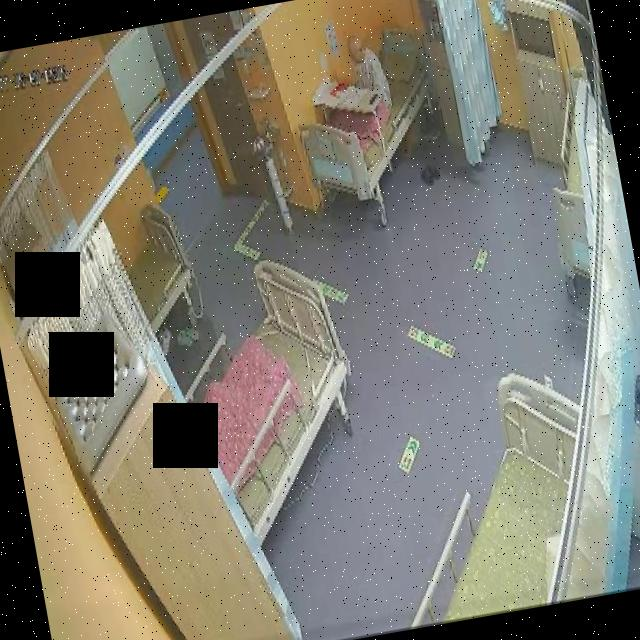bed: (372, 366, 614, 628), (172, 251, 374, 549), (282, 19, 454, 210), (116, 198, 201, 338)
patient: (342, 27, 394, 114)
sit: (343, 28, 392, 112)
